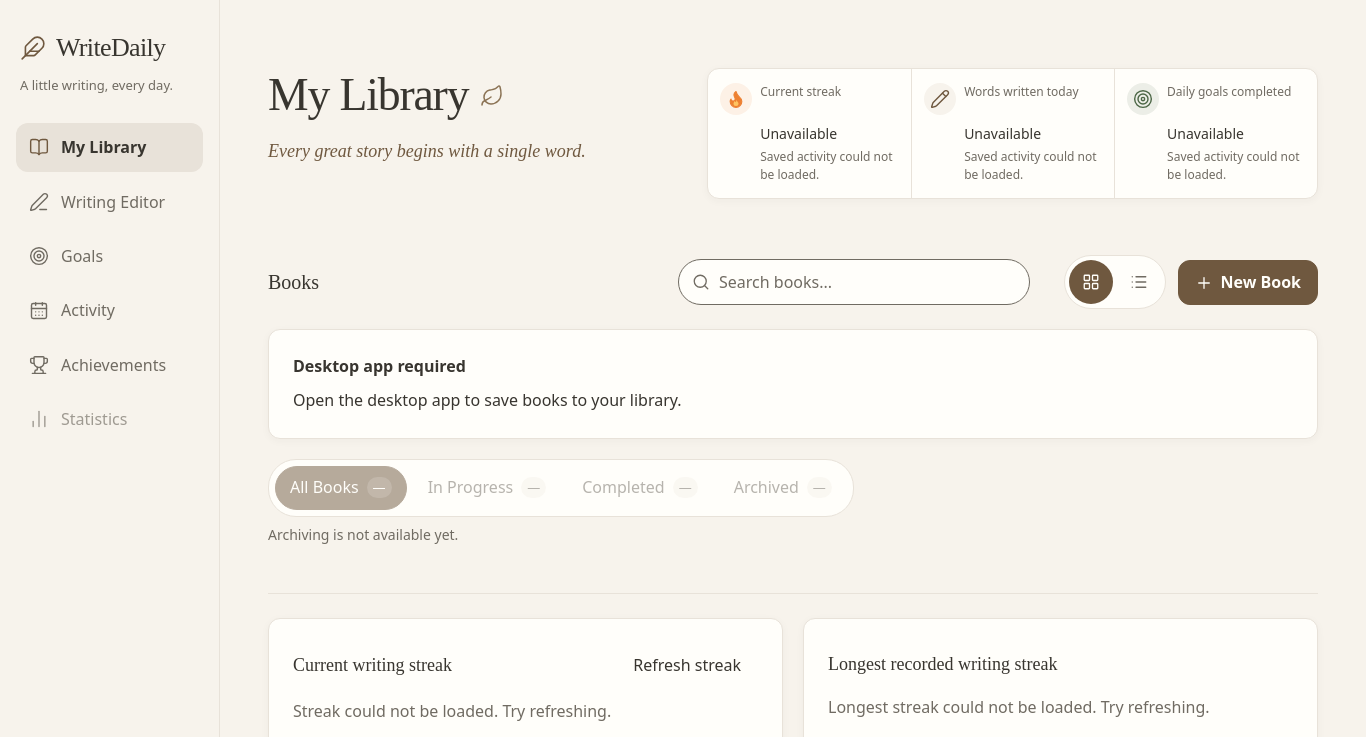
Scenario: Achievements navigation opens the real page with explicit desktop availability
Click the button "Achievements". click: (110, 365)
box: [16,341,203,389]
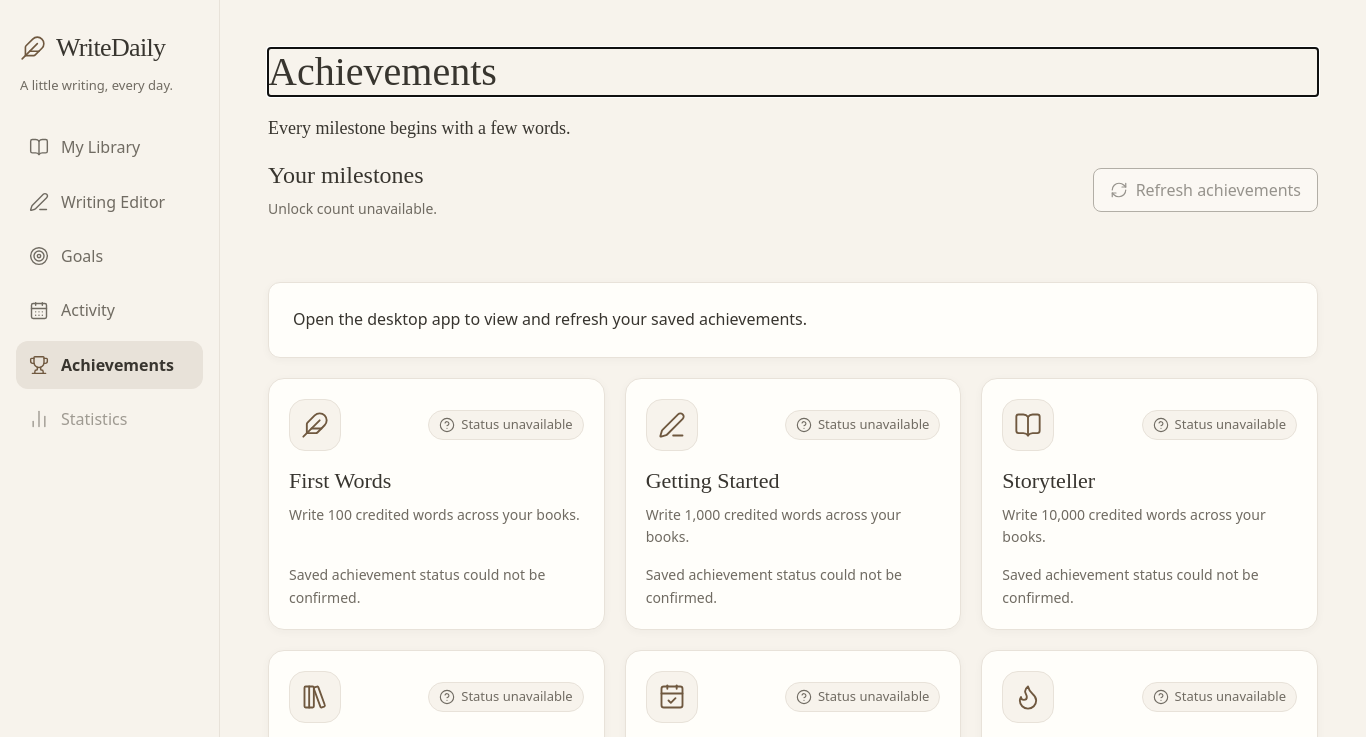
Now the heading "Your milestones" is shown, box [268,160,437,192]
Now the text "Open the desktop app to view and refresh your saved achievements." is shown, box [293,308,807,330]
